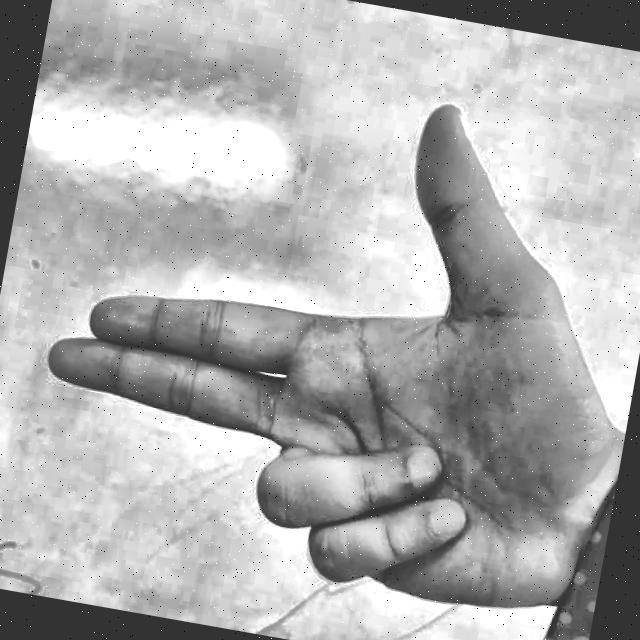Jha: (0, 18, 640, 640)
